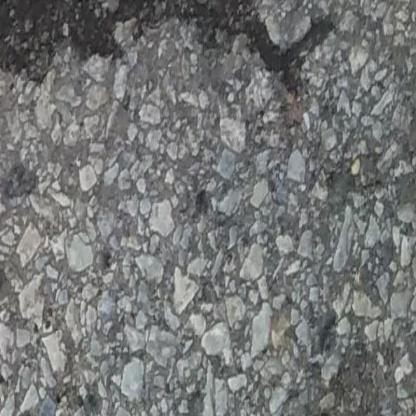Cracks: (0, 0, 340, 103)
